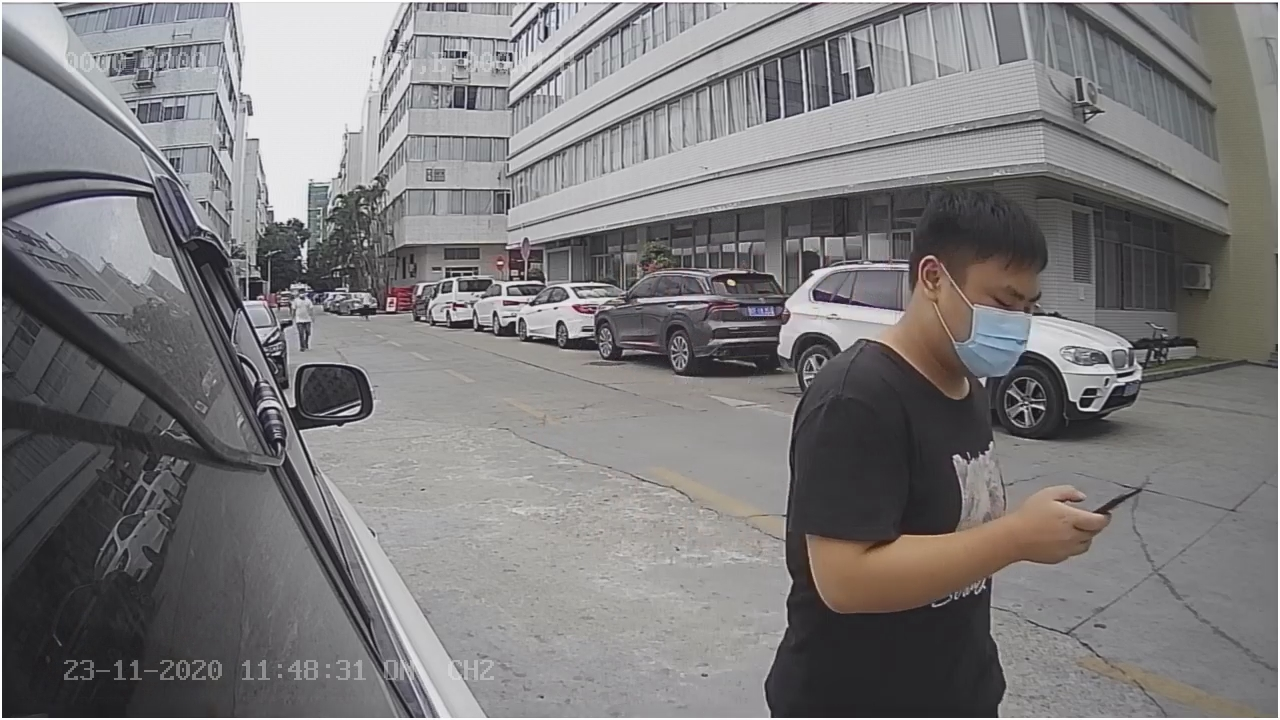person: (770, 192, 1114, 622)
